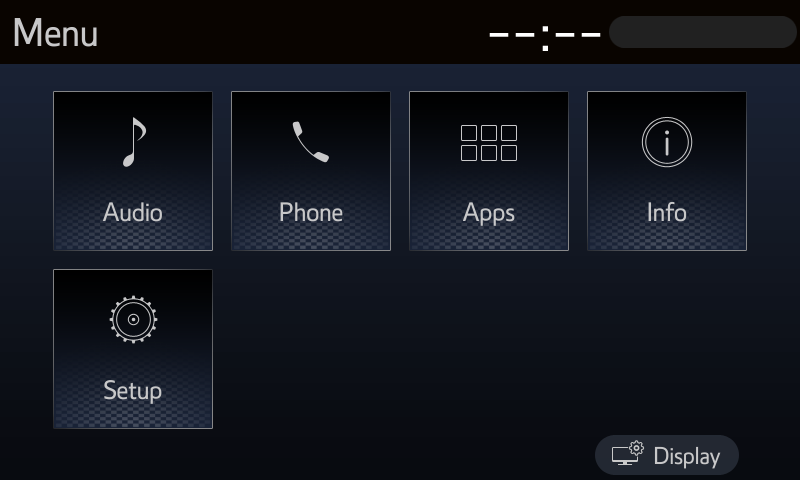touchPart: (410, 90, 570, 251), (53, 91, 213, 251), (231, 91, 389, 251), (587, 90, 745, 250), (53, 270, 212, 428), (588, 430, 741, 476)
untouchPart: (605, 12, 798, 53), (482, 14, 601, 54), (8, 11, 101, 53)
